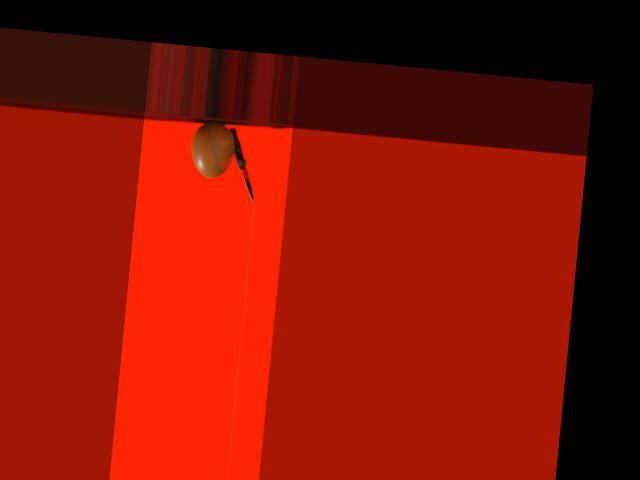egg: (189, 120, 237, 179)
